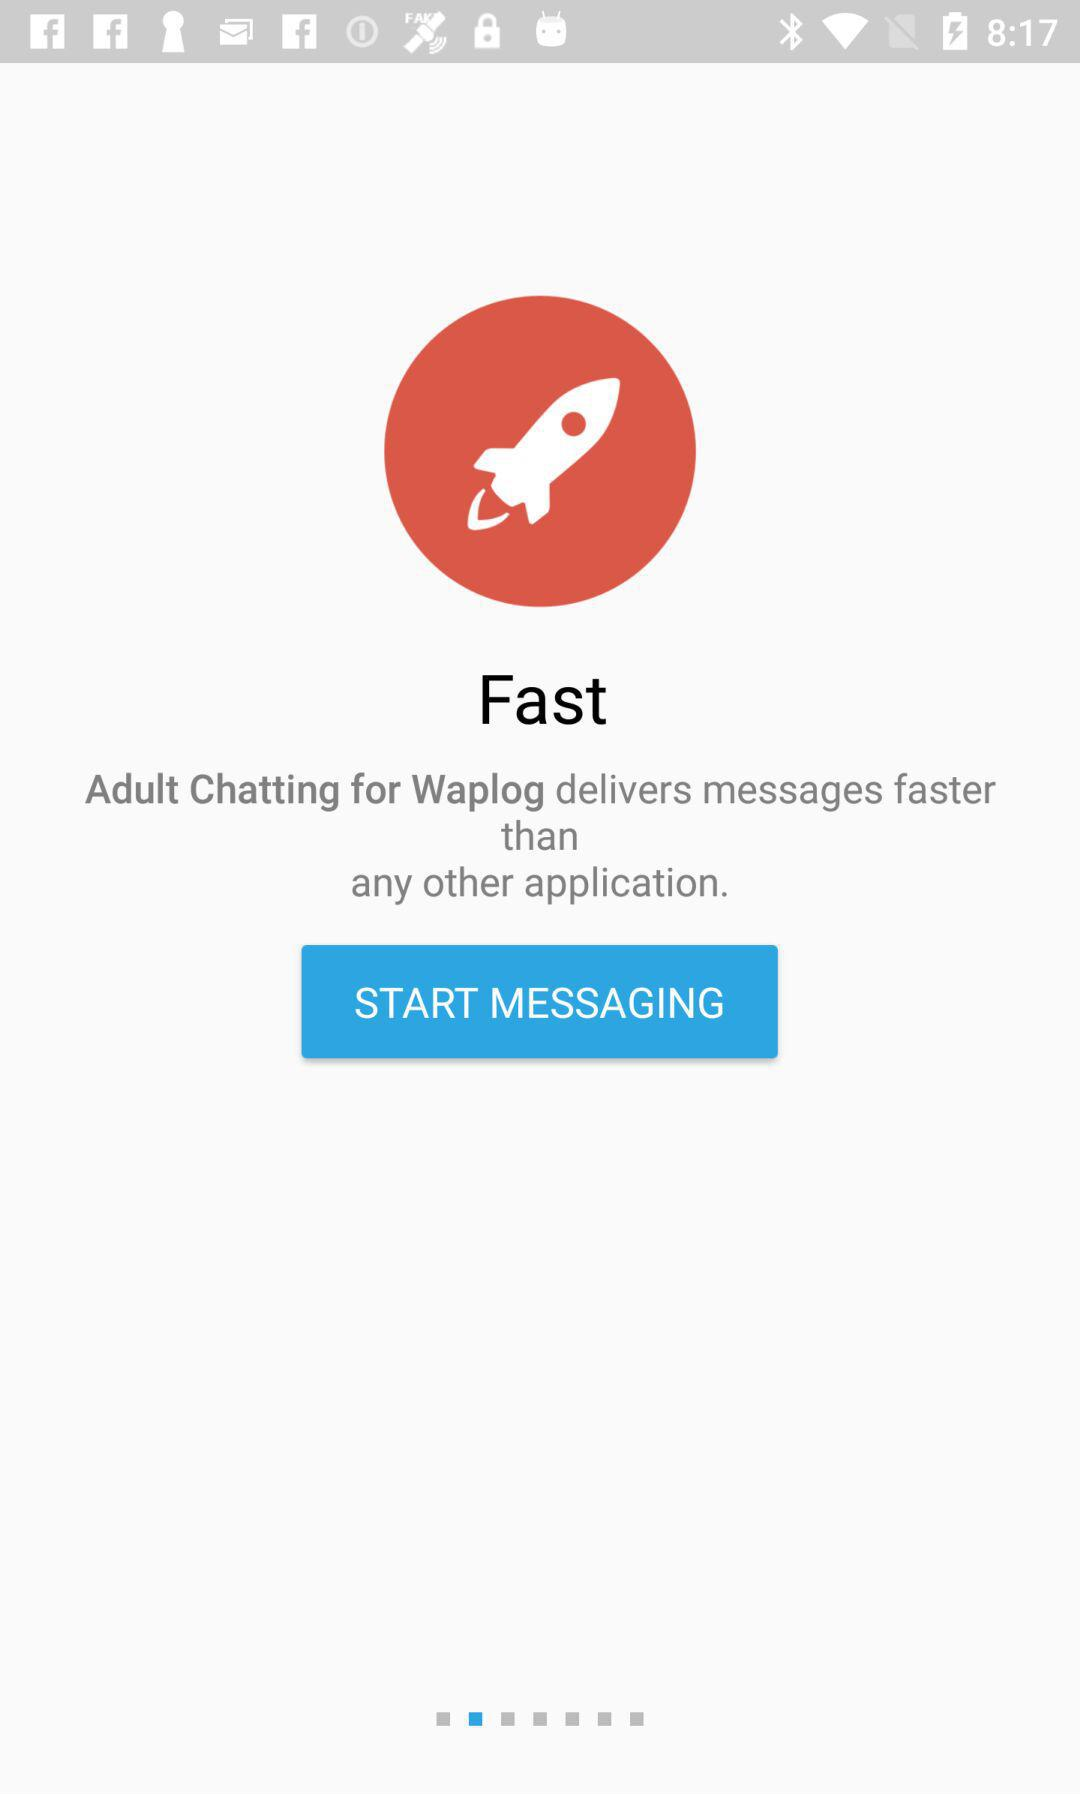Image: (384, 295, 697, 609)
PageIndicator: (436, 1711, 646, 1727)
Text: (85, 771, 997, 907), (482, 675, 609, 727)
TextButton: (302, 944, 779, 1058)
UpperTaskBar: (1, 1, 1080, 64)
